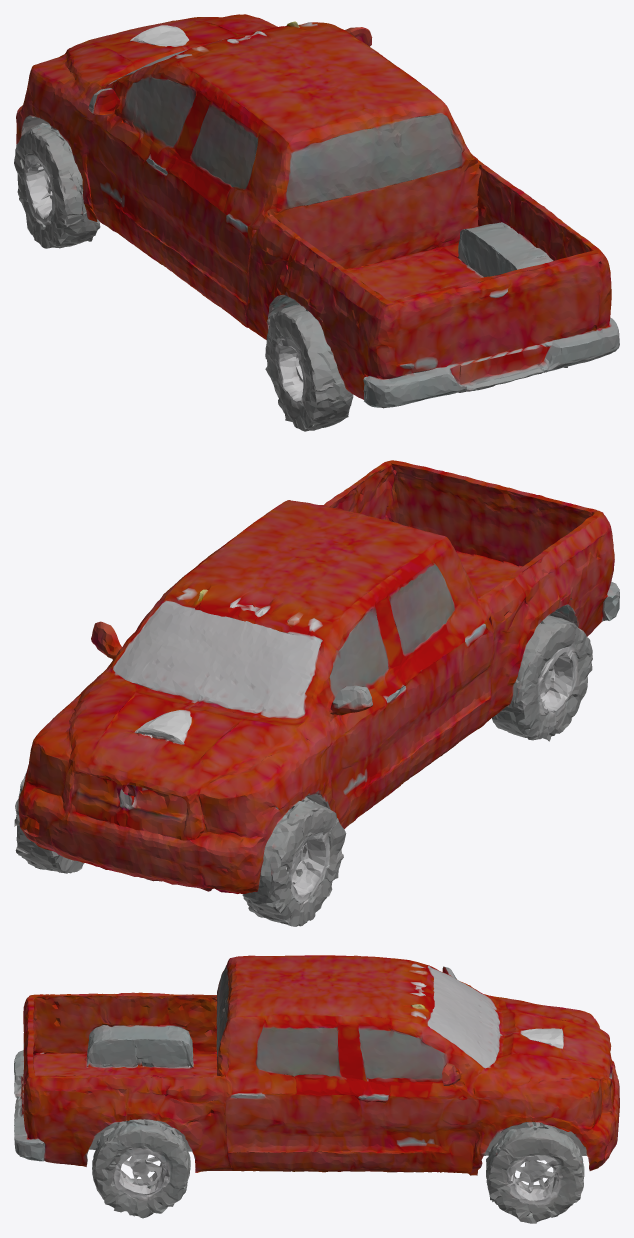
3 views of the same model, one above another, from view 1: azimuth 30°, elevation 25°; view 2: azimuth 150°, elevation 25°; view 3: azimuth 270°, elevation 25° (orthographic). The views are drawn at different scales.
Visible parts, largest first — view 1: defaultobject; view 2: defaultobject; view 3: defaultobject.
Part boxes in pixels (left/top/right/bottom): defaultobject: left=14, top=14, right=619, bottom=431; defaultobject: left=14, top=460, right=619, bottom=926; defaultobject: left=14, top=955, right=619, bottom=1223.
Bounding box in the file's own units: 0.4006 × 0.33 × 0.9513.
